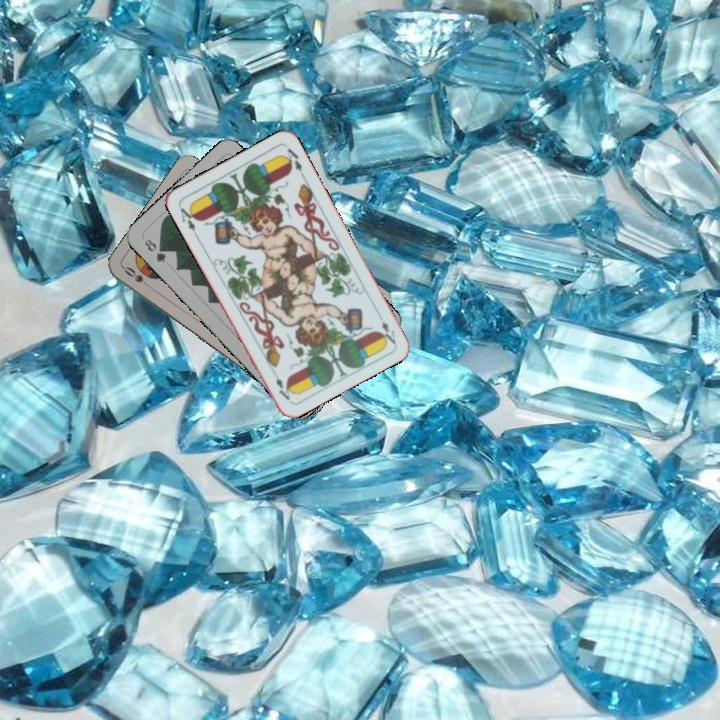EA: (175, 202, 200, 234), (376, 317, 398, 346)
G8: (140, 235, 169, 266)
SO: (120, 262, 155, 292)
